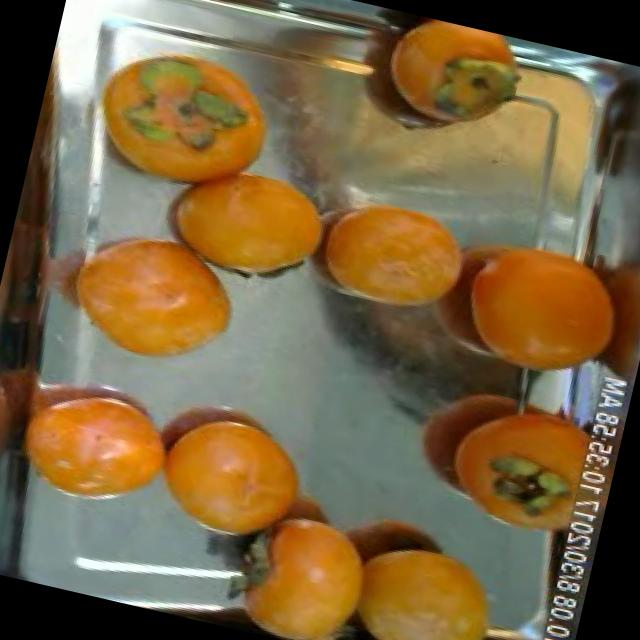Fruit: (51, 23, 300, 225), (36, 198, 269, 392), (414, 218, 640, 407), (125, 376, 334, 566), (288, 171, 502, 341), (0, 345, 193, 529), (134, 140, 344, 305), (318, 505, 530, 640), (360, 7, 544, 148)
